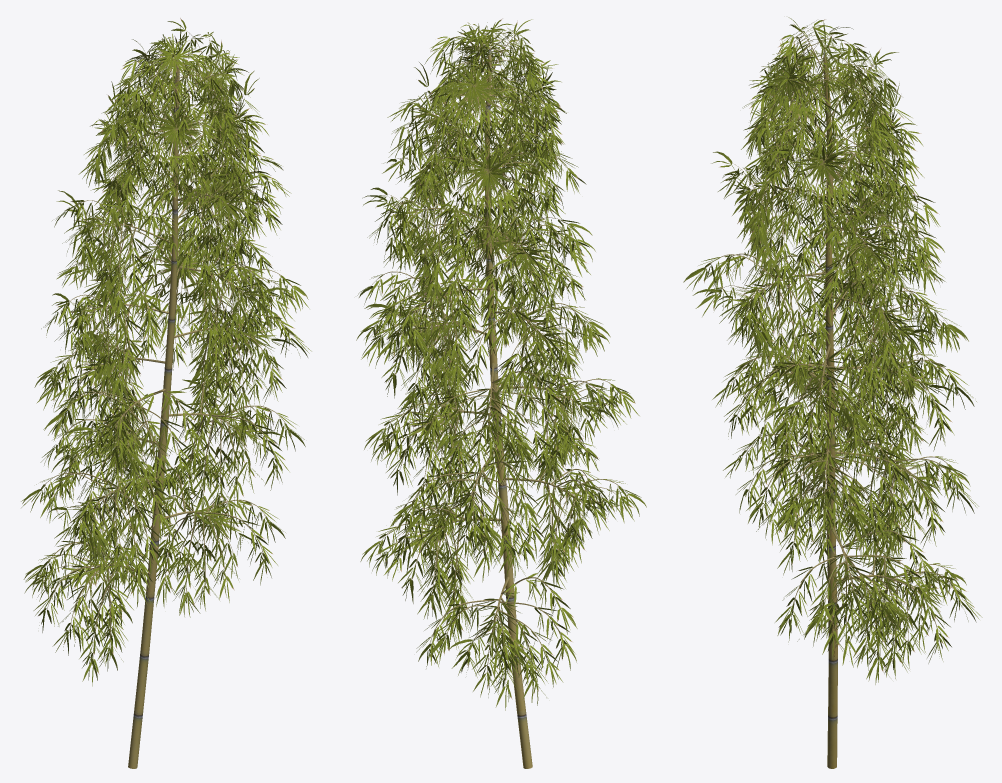
Rendered from FBX_JA14_PhyllostachysNigraHenonis_2.fbx.
The picture shows the model from 3 angles, left to right: view 1: azimuth 30°, elevation 25°; view 2: azimuth 150°, elevation 25°; view 3: azimuth 270°, elevation 25°; orthographic projection. The views are drawn at different scales.
Parts seen in each view (by area): view 1: Leaf02_2, Branch01_2, Bark01_2; view 2: Leaf02_2, Branch01_2, Bark01_2; view 3: Leaf02_2, Branch01_2, Bark01_2.
Part boxes in pixels (x1=…): Leaf02_2: x1=21, y1=18, x2=311, y2=686; Branch01_2: x1=40, y1=31, x2=293, y2=656; Bark01_2: x1=128, y1=59, x2=179, y2=768; Leaf02_2: x1=356, y1=18, x2=646, y2=710; Branch01_2: x1=371, y1=29, x2=626, y2=680; Bark01_2: x1=484, y1=44, x2=532, y2=768; Leaf02_2: x1=683, y1=17, x2=982, y2=684; Branch01_2: x1=707, y1=28, x2=962, y2=656; Bark01_2: x1=823, y1=44, x2=837, y2=768.
Bounding box in the file's own units: 154 × 402 × 147.
